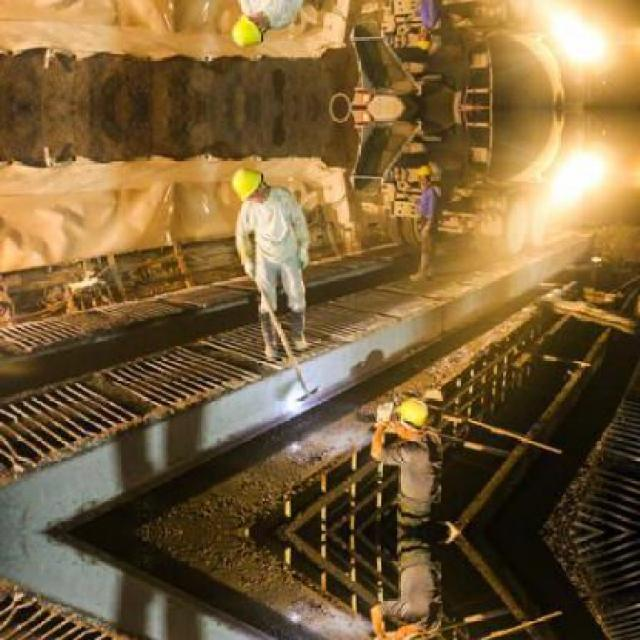hat: (396, 396, 434, 429), (232, 164, 265, 200), (416, 163, 434, 180)
